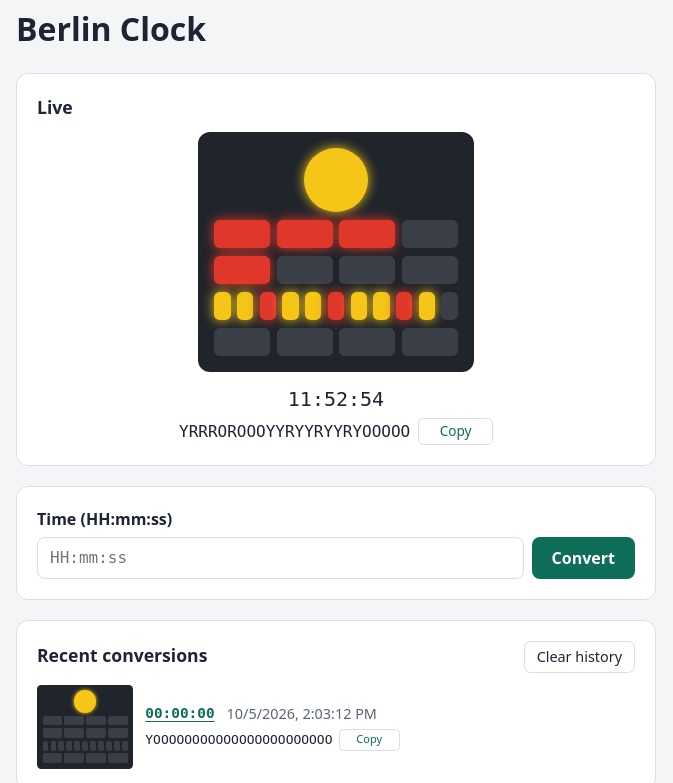
Clearing the history › asks for confirmation inside the page
What coordinates should you click on to do the following:
click the button "Clear history"
I would click on:
 (579, 657)
Its box is top-left (524, 641), bottom-right (635, 673).
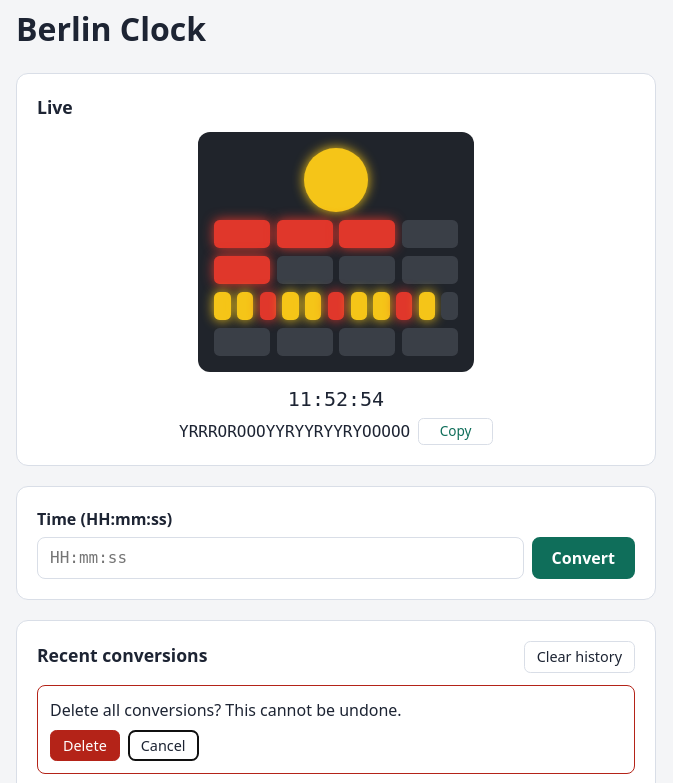
Now the text "Delete all conversions? This cannot be undone." is shown, box top-left (50, 699), bottom-right (402, 721)
Now the button "Delete" is shown, box top-left (50, 730), bottom-right (120, 761)
